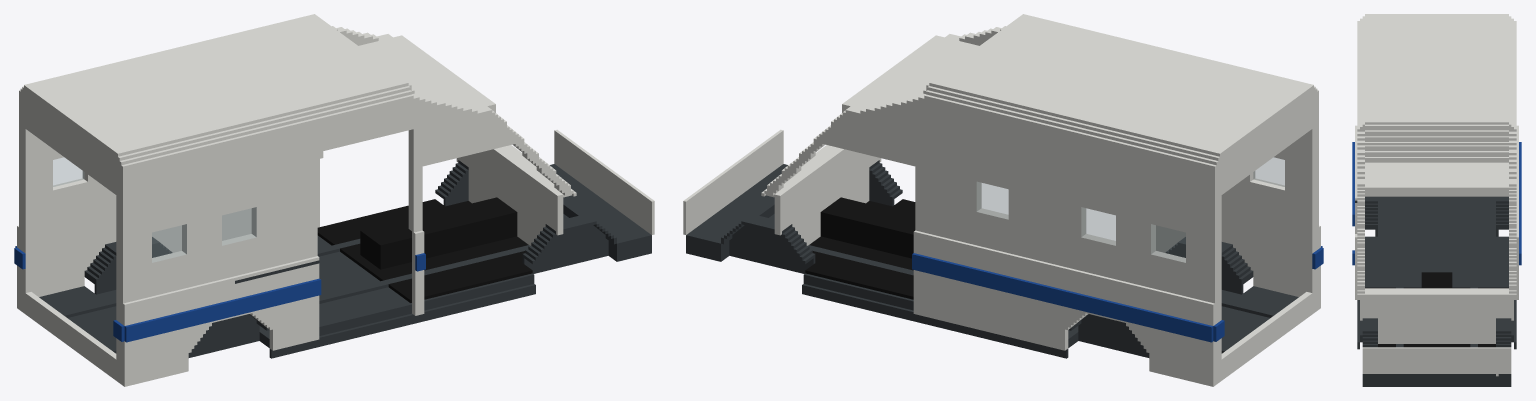
File: prisoner_van_shell.glb
3 views of the same model, side by side, from view 1: azimuth 30°, elevation 25°; view 2: azimuth 150°, elevation 25°; view 3: azimuth 270°, elevation 25° (orthographic). The views are drawn at different scales.
Parts seen in each view (by area): view 1: body:compound; view 2: body:compound; view 3: body:compound.
Part boxes in pixels (bbox=[...]): body:compound: bbox=[14, 14, 654, 386]; body:compound: bbox=[683, 14, 1323, 386]; body:compound: bbox=[1352, 14, 1521, 386].
Size of the model in its own units: 5.78 by 2.44 by 2.06.
